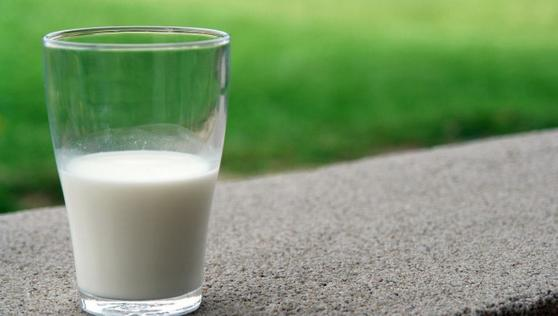milk: (41, 30, 230, 314)
